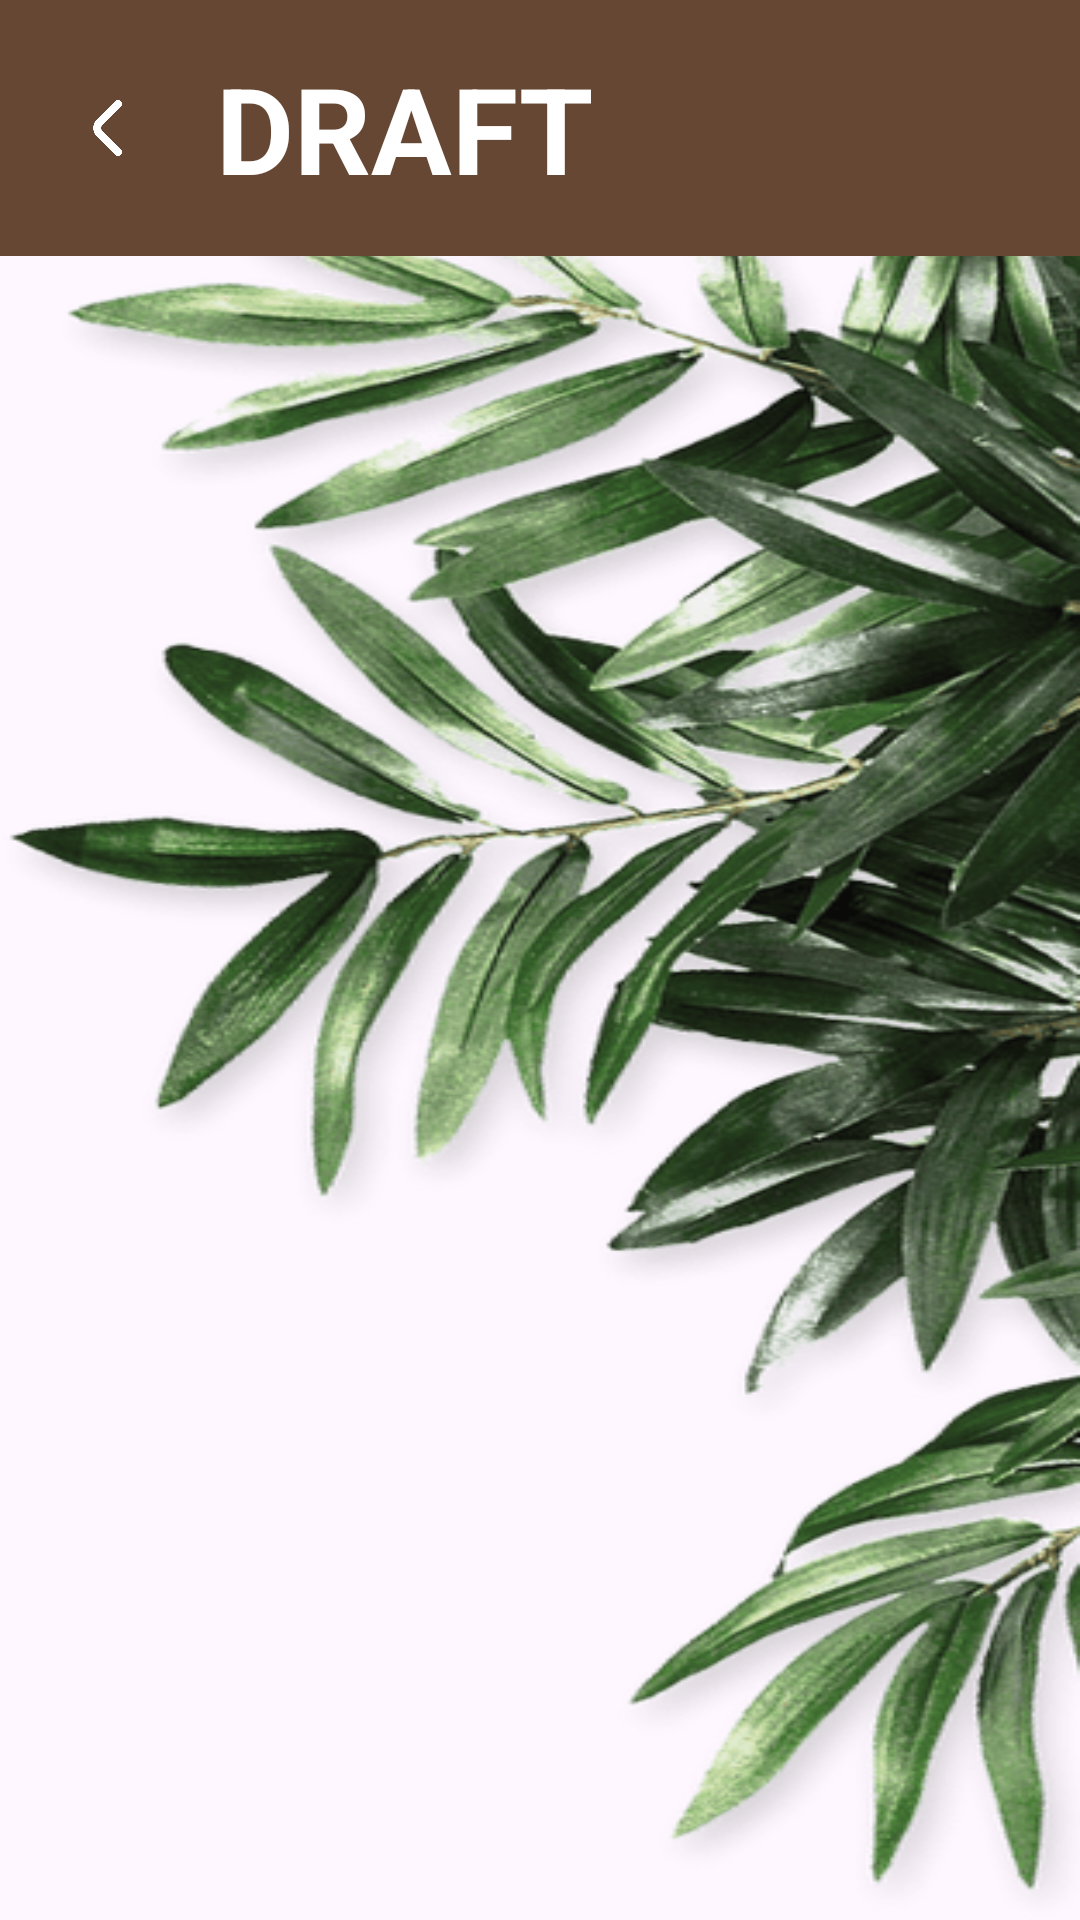

Icon bounding boxes for this 1080×1920 phone screenshot, format detection(x1, y1, x2, y2):
Back: detection(93, 100, 122, 156)
